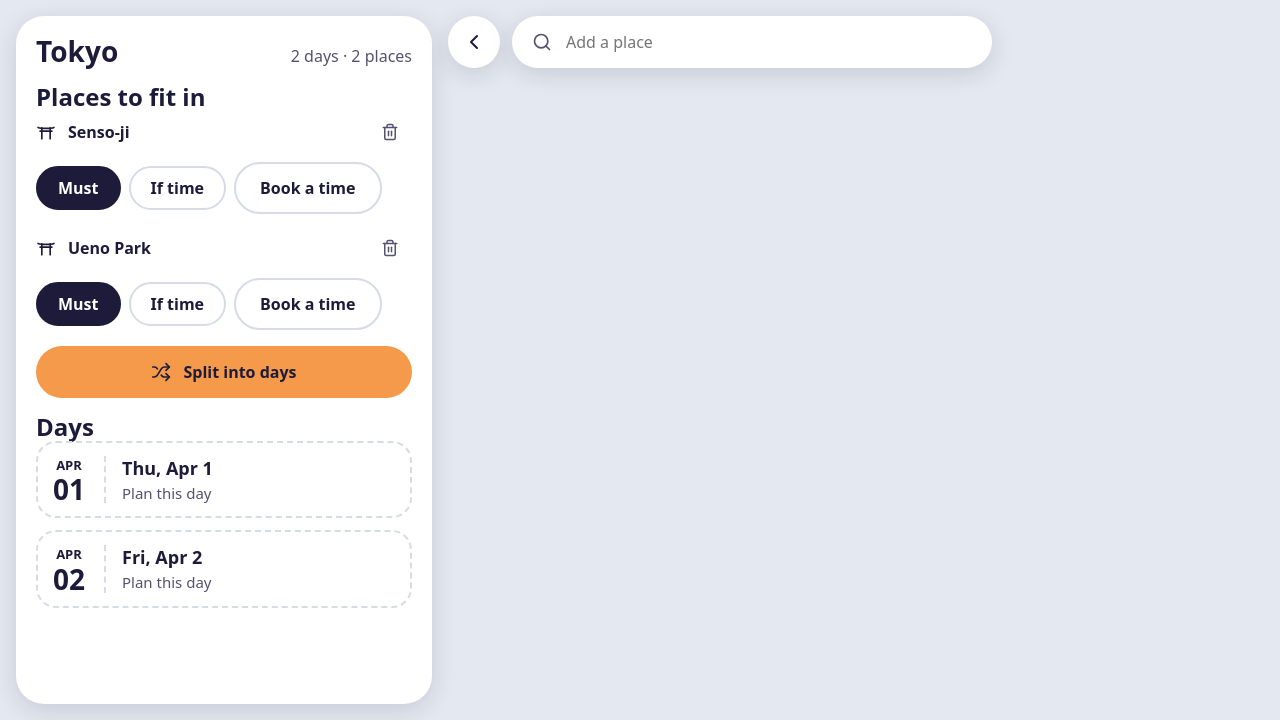
Test: the stay screen › goes back to editing without saving
Click the button "Split into days": (224, 372) [36,346,412,398]
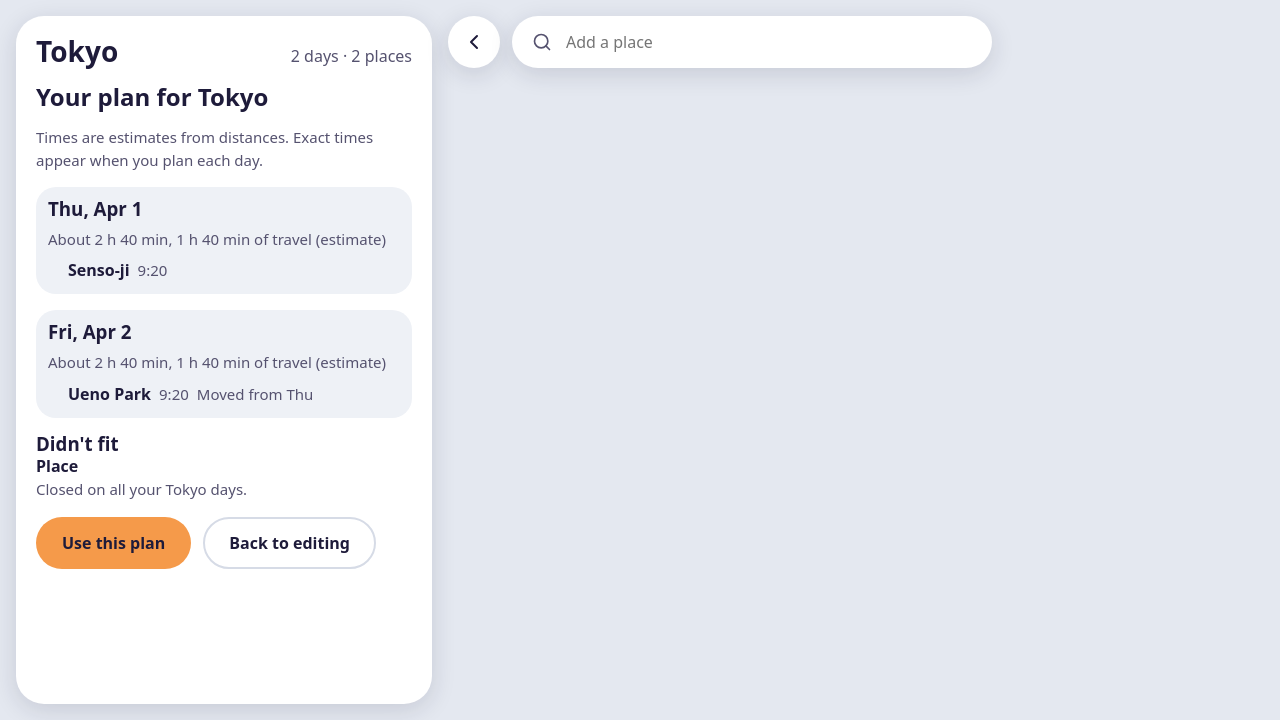
Click the button "Back to editing": (290, 543) [203,517,376,569]
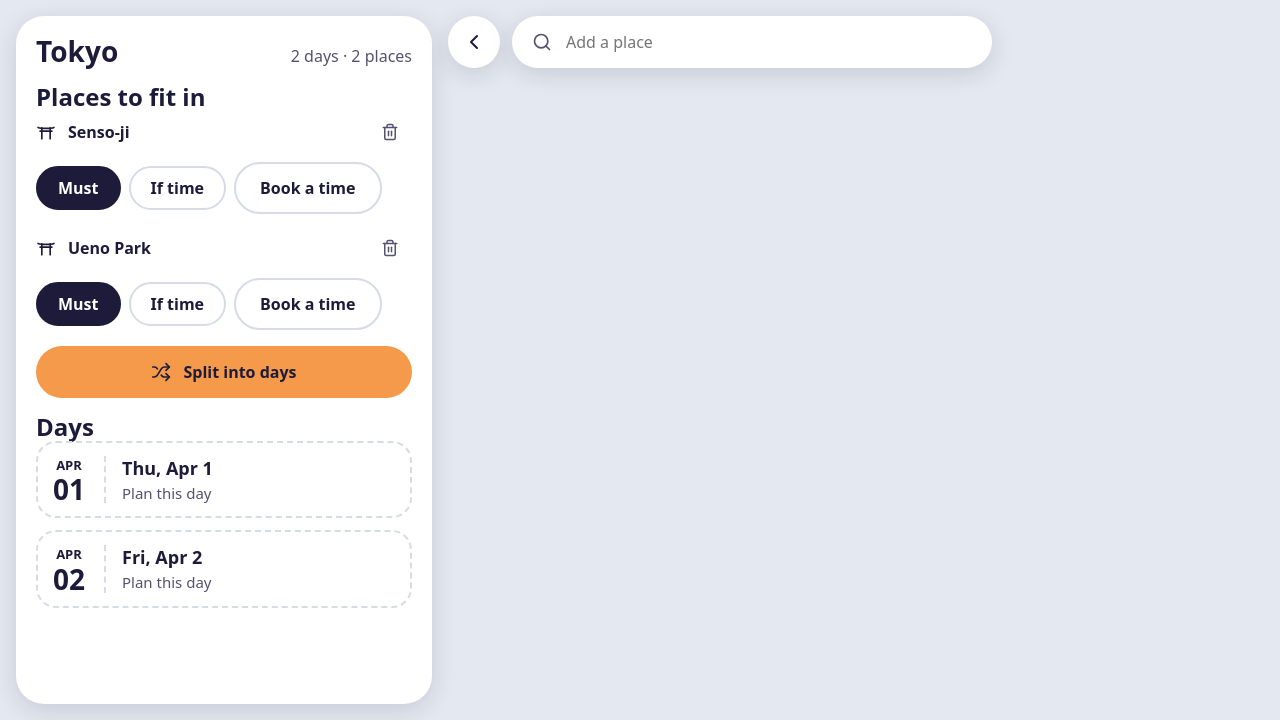
Expected: the list named "Places to fit in" is shown, [36,110,412,330]
